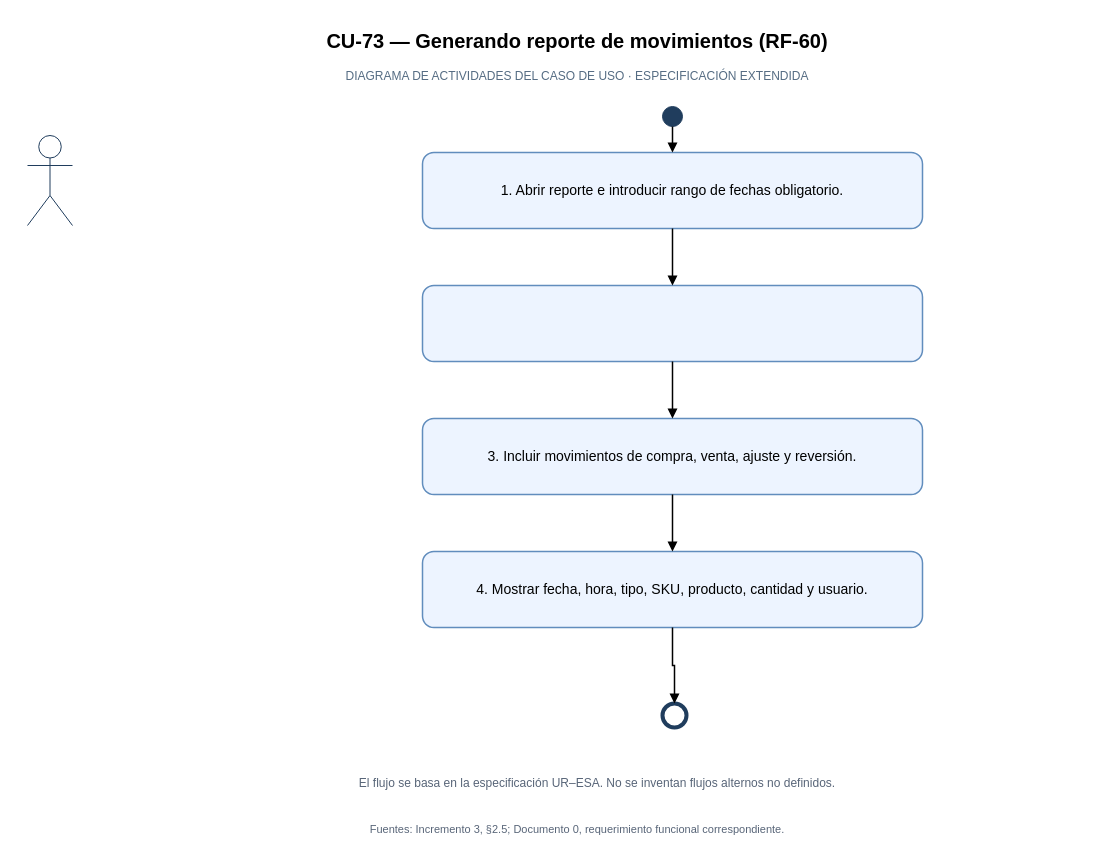
This 1115x858 diagram has some shape labels left out. Here are the shapes that lost their labels. From the top down, the centre of each, then its label:
[49,180]: Usuario autorizado
[672,323]: 2. Consultar movimientos dentro del rango indicado.
